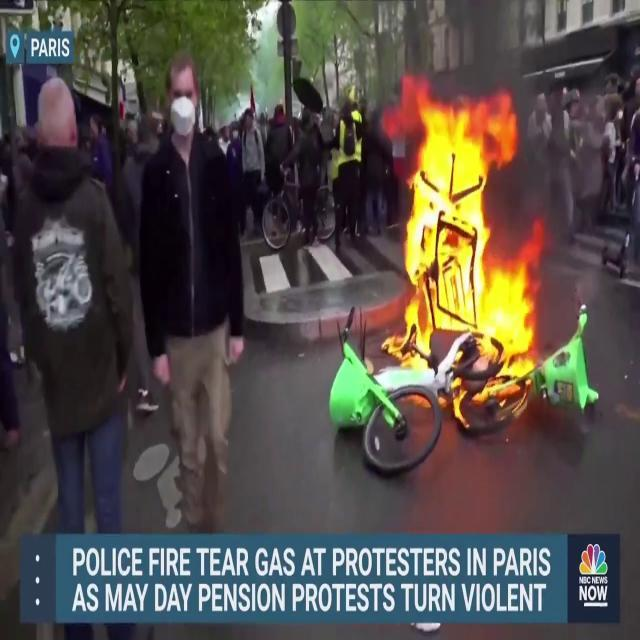Fire: (387, 84, 551, 400)
